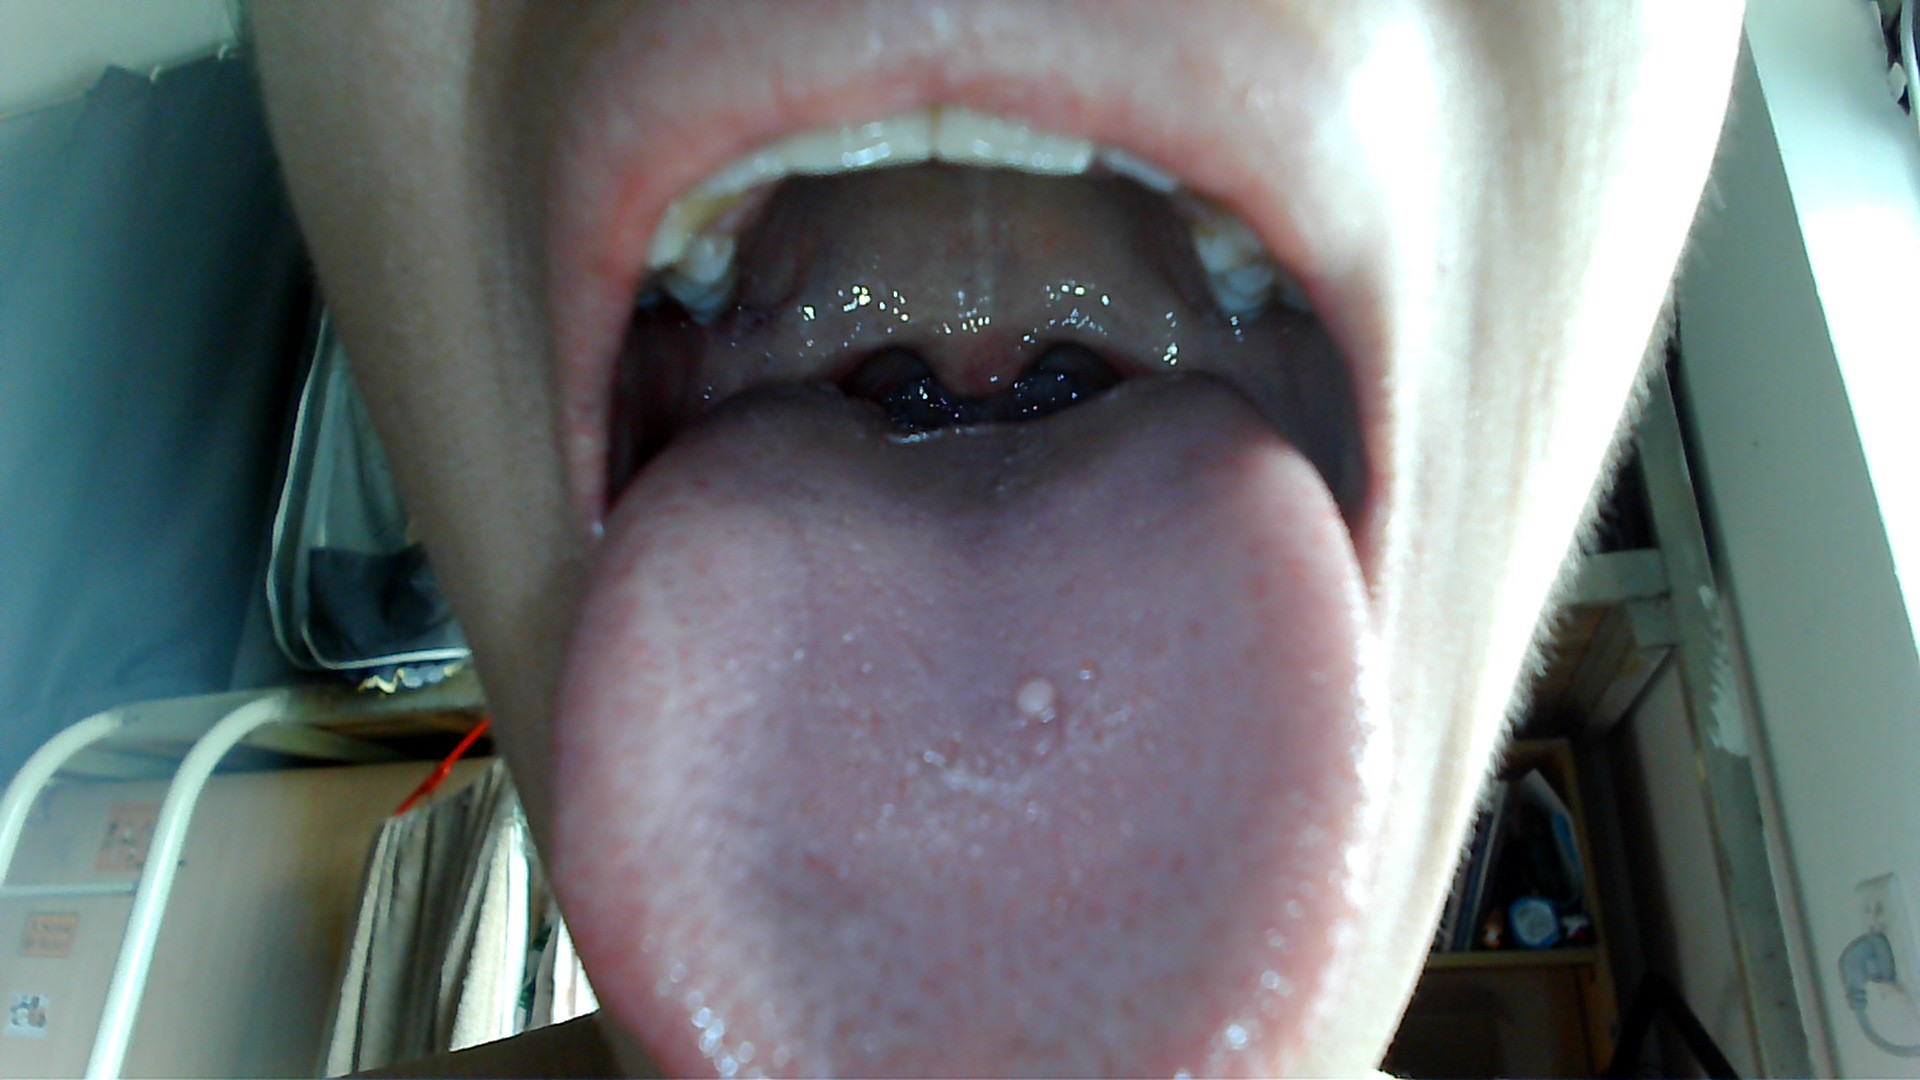throat: (774, 301, 878, 388), (1091, 295, 1189, 380)
